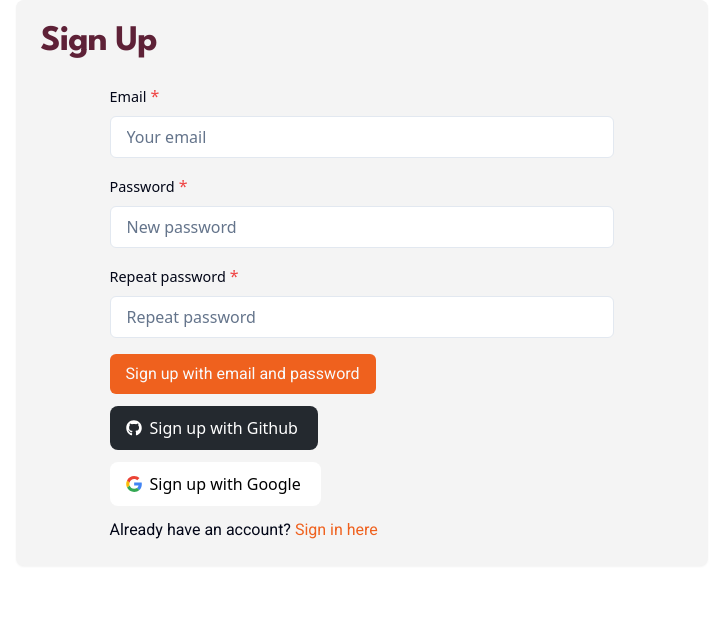
SignUp › should render the sign up form with expected error from signup
This screenshot has width=725, height=621.
Type "email@email.com" into the field labelled "Email" at {"x": 362, "y": 137}, box x1=110 y1=116 x2=614 y2=158
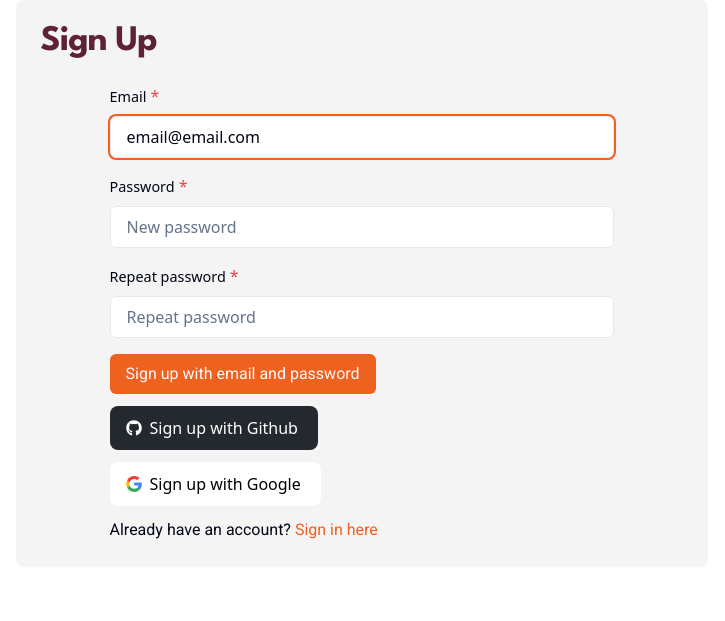
Type "Password1!" into the password field labelled "Password" at {"x": 362, "y": 227}, box x1=110 y1=206 x2=614 y2=248
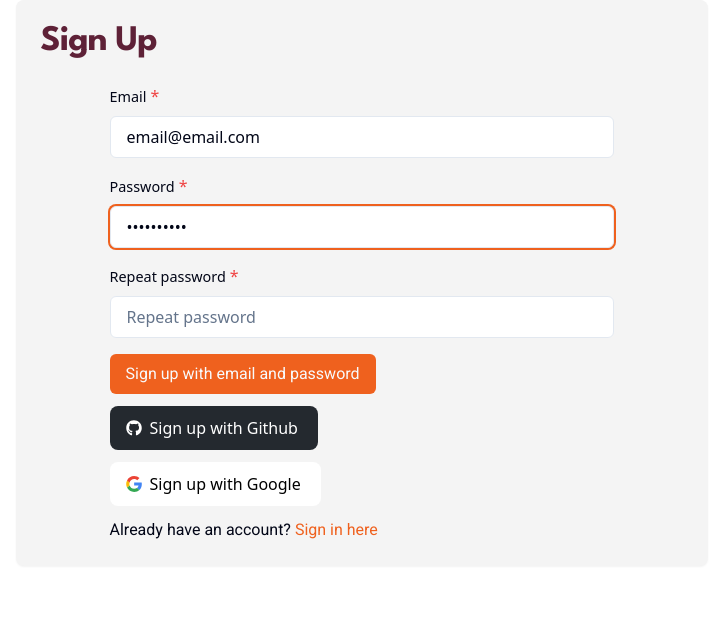
Type "Password1!" into the password field labelled "Repeat password" at {"x": 362, "y": 317}, box x1=110 y1=296 x2=614 y2=338
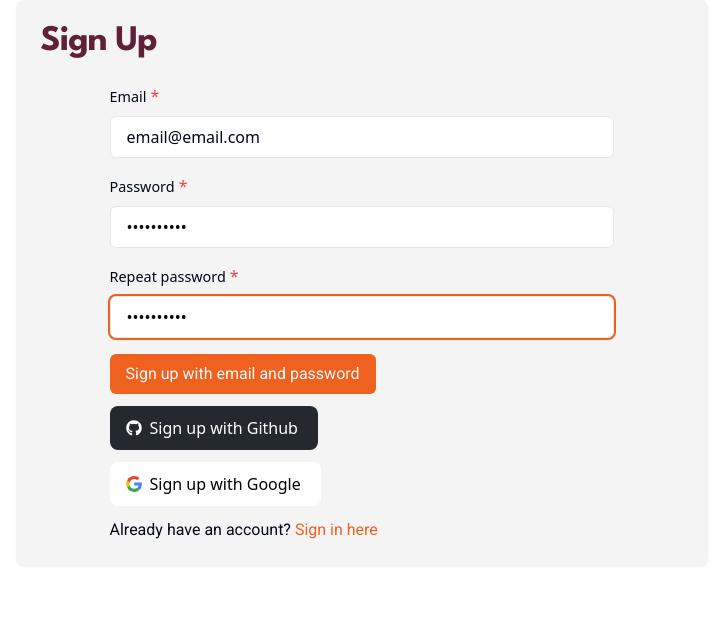
Click the button "Sign up with email and password" at {"x": 242, "y": 374}, box x1=110 y1=354 x2=376 y2=394
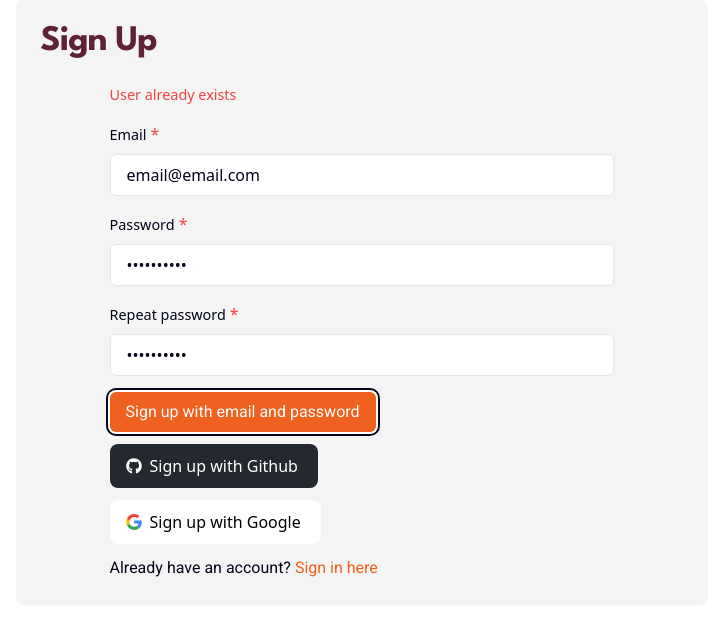
Expected: the text "User already exists" is shown, x1=110 y1=85 x2=236 y2=104
